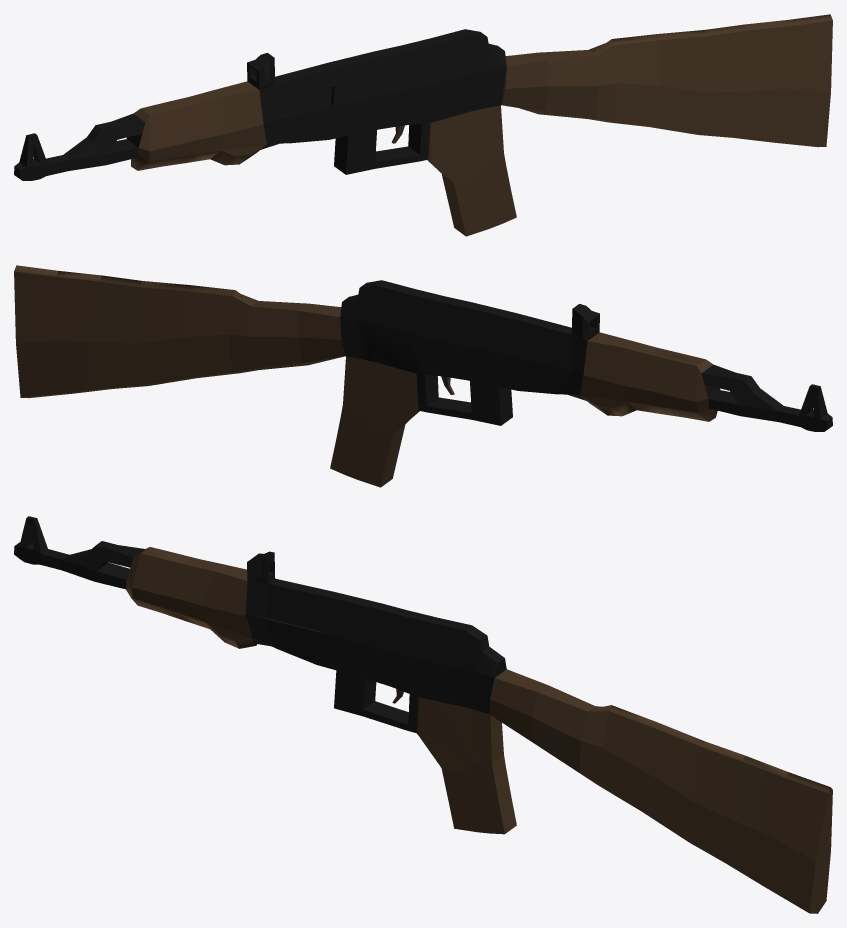
Rendered from rifle_new.glb.
3 views of the same model, one above another, from view 1: azimuth 30°, elevation 25°; view 2: azimuth 150°, elevation 25°; view 3: azimuth 330°, elevation 25° (orthographic).
Visible parts, largest first — view 1: Plane.001; view 2: Plane.001; view 3: Plane.001.
Part boxes in pixels (x1,y1,x2,y2): Plane.001: (14,14,832,236); Plane.001: (14,265,832,487); Plane.001: (14,516,832,913).
Bounding box in the file's own units: 4.71 × 1.25 × 0.1838.
1 material, 1 textured.
